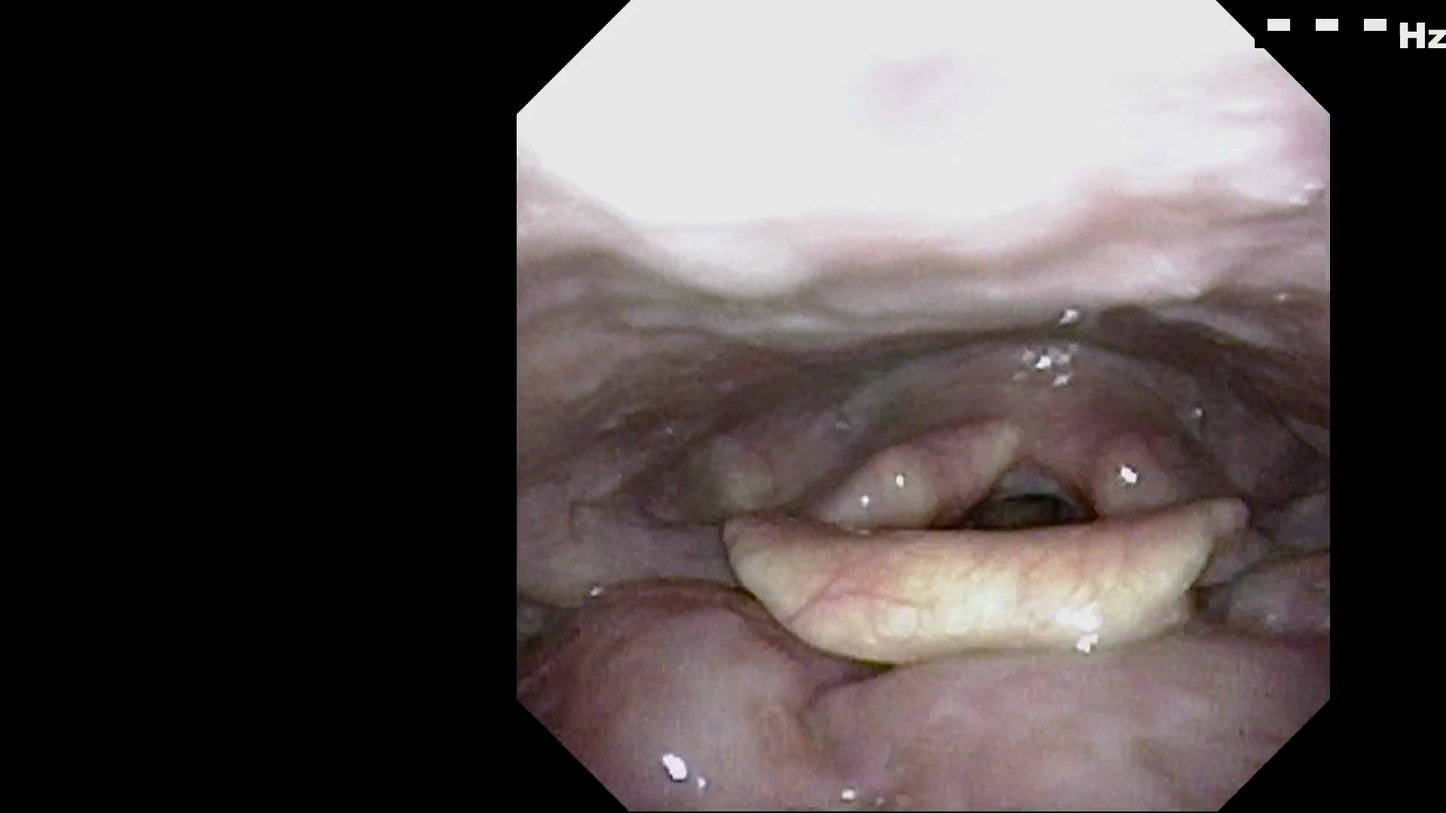epiglottis: (695, 506, 1237, 645)
